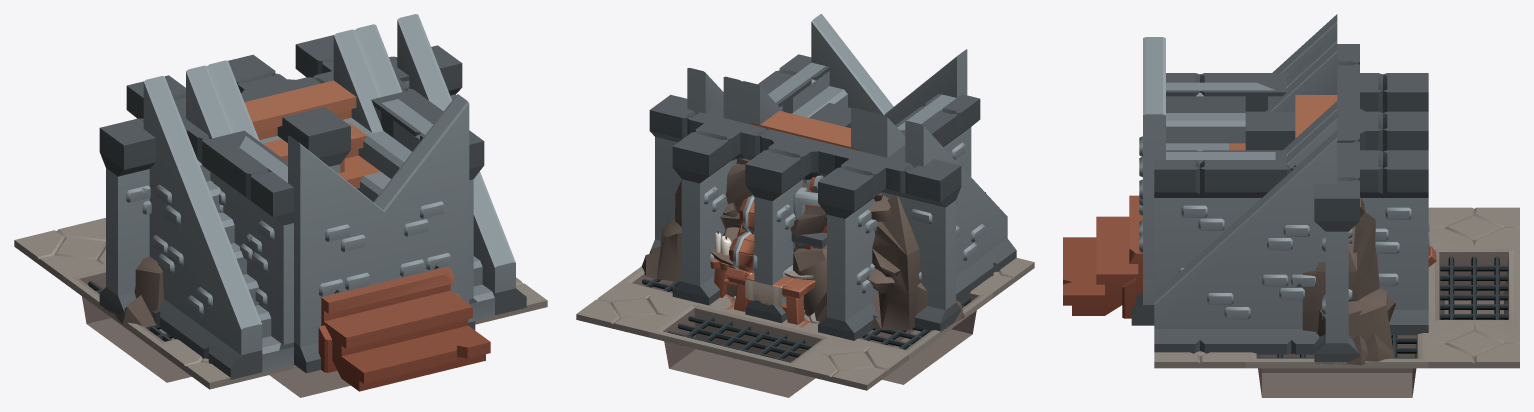
Rendered from dungeon.glb.
3 renders of one model, left to right at view 1: azimuth 30°, elevation 25°; view 2: azimuth 150°, elevation 25°; view 3: azimuth 270°, elevation 25°, orthographic. The views are drawn at different scales.
Parts seen in each view (by area): view 1: stairs_wide, stairs_wood, stairs_wall_left, stairs_wall_right, wall_doorway_Tsplit, floor_tile_extralarge_grates, stairs_walled, stairs_narrow, wall_doorway_sides, stairs, wall_crossing, rubble_large (+2 smaller); view 2: floor_tile_extralarge_grates, wall_doorway_sides, wall_doorway_Tsplit, rubble_large, stairs_wide, wall_crossing, stairs_wall_right, stairs_walled, rubble_half, stairs_wall_left, stairs, table_long_decorated_C (+9 smaller); view 3: floor_tile_extralarge_grates, stairs_wide, wall_doorway_sides, wall_doorway_Tsplit, stairs_walled, stairs_wood, stairs_wall_left, rubble_half, wall_crossing, stairs_wall_right, stairs_narrow, rubble_large (+1 smaller).
Part boxes in pixels (<box>): stairs_wide: <box>143,14,526,379</box>; stairs_wood: <box>244,80,490,391</box>; stairs_wall_left: <box>232,77,475,373</box>; stairs_wall_right: <box>294,94,474,371</box>; wall_doorway_Tsplit: <box>99,45,462,316</box>; floor_tile_extralarge_grates: <box>14,217,547,397</box>; stairs_walled: <box>198,86,484,350</box>; stairs_narrow: <box>207,29,383,141</box>; wall_doorway_sides: <box>126,35,427,224</box>; stairs: <box>186,24,402,212</box>; wall_crossing: <box>228,54,350,149</box>; rubble_large: <box>116,256,163,327</box>; floor_tile_extralarge_grates: <box>576,258,1034,397</box>; wall_doorway_sides: <box>672,88,938,340</box>; wall_doorway_Tsplit: <box>649,86,961,332</box>; rubble_large: <box>649,181,964,330</box>; stairs_wide: <box>687,68,1016,301</box>; wall_crossing: <box>745,103,850,323</box>; stairs_wall_right: <box>768,14,893,117</box>; stairs_walled: <box>758,54,980,176</box>; rubble_half: <box>641,158,749,296</box>; stairs_wall_left: <box>758,49,967,134</box>; stairs: <box>723,76,905,157</box>; table_long_decorated_C: <box>729,195,807,324</box>; floor_tile_extralarge_grates: <box>1154,207,1519,397</box>; stairs_wide: <box>1154,14,1337,354</box>; wall_doorway_sides: <box>1245,73,1428,335</box>; wall_doorway_Tsplit: <box>1245,44,1359,364</box>; stairs_walled: <box>1154,73,1287,294</box>; stairs_wood: <box>1063,95,1337,318</box>; stairs_wall_left: <box>1131,37,1287,325</box>; rubble_half: <box>1316,197,1395,361</box>; wall_crossing: <box>1245,111,1428,151</box>; stairs_wall_right: <box>1131,114,1287,325</box>; stairs_narrow: <box>1266,43,1337,154</box>; rubble_large: <box>1302,224,1368,365</box>.
Size of the model in its own units: 8.13 by 6.3 by 10.
Materials: 1 (1 with a texture image).
